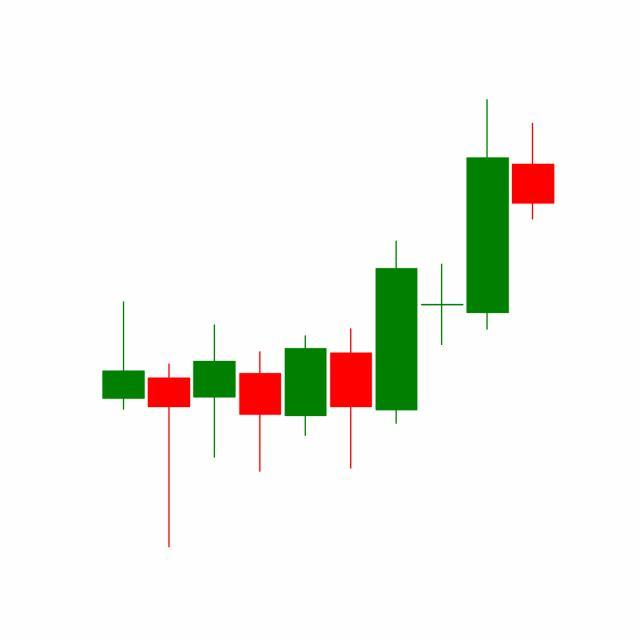Hikkake Pattern: (283, 99, 512, 473)
